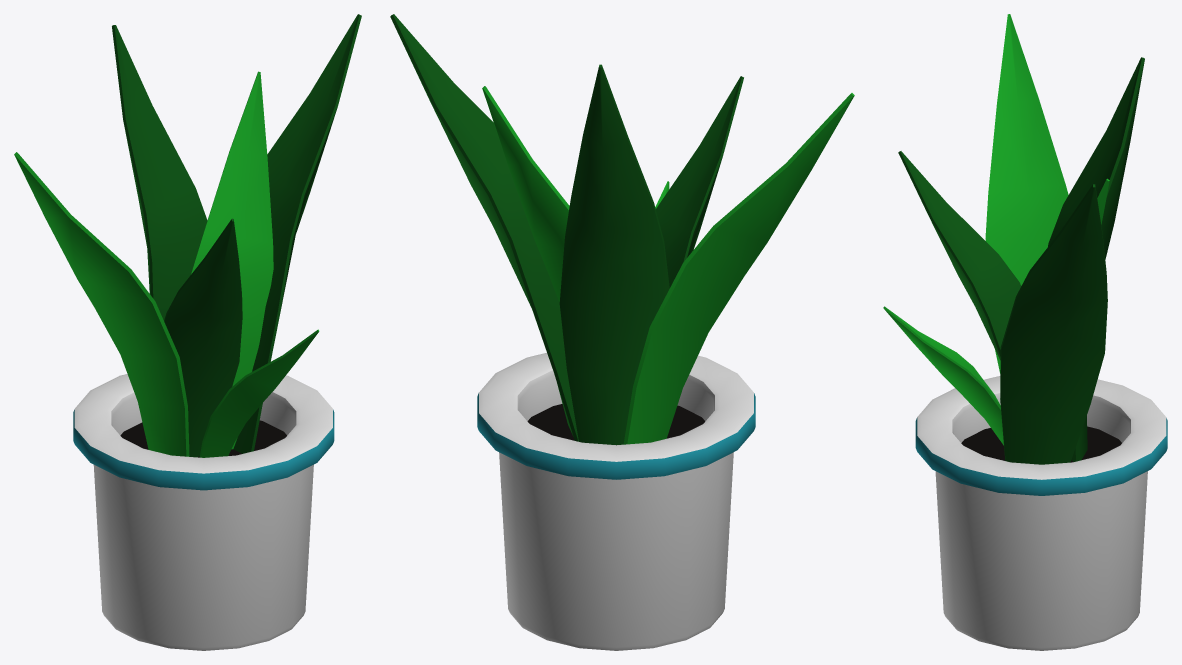
Rendered from Aloe.fbx.
The picture shows the model from 3 angles, left to right: view 1: azimuth 30°, elevation 25°; view 2: azimuth 150°, elevation 25°; view 3: azimuth 270°, elevation 25°; orthographic projection. The views are drawn at different scales.
Visible parts, largest first — view 1: Aloe_V1; view 2: Aloe_V1; view 3: Aloe_V1.
Boxes of the visible parts, x1=… form: Aloe_V1: x1=14, y1=14, x2=361, y2=650; Aloe_V1: x1=390, y1=14, x2=854, y2=650; Aloe_V1: x1=883, y1=14, x2=1167, y2=650.
Bounding box in the file's own units: 191 × 259 × 125.
